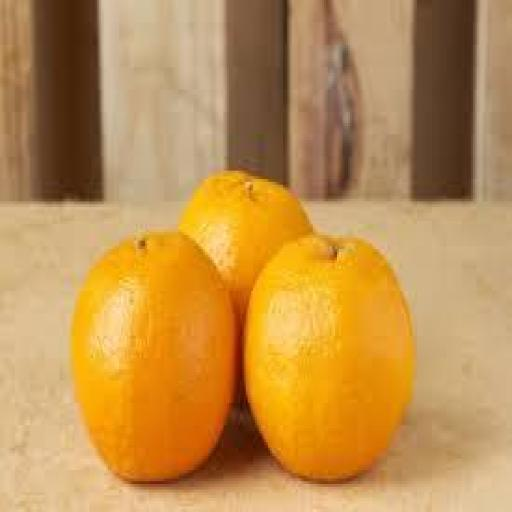orange: (244, 236, 415, 481), (73, 236, 236, 481), (179, 171, 312, 327)
